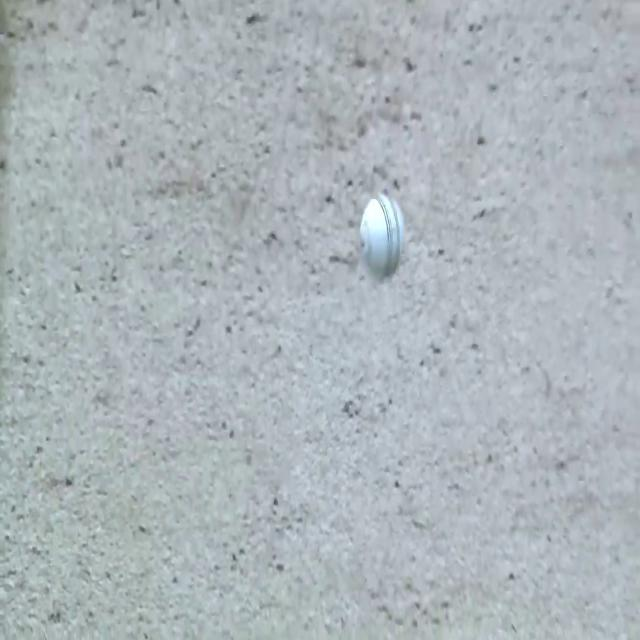ball: (351, 175, 411, 283)
